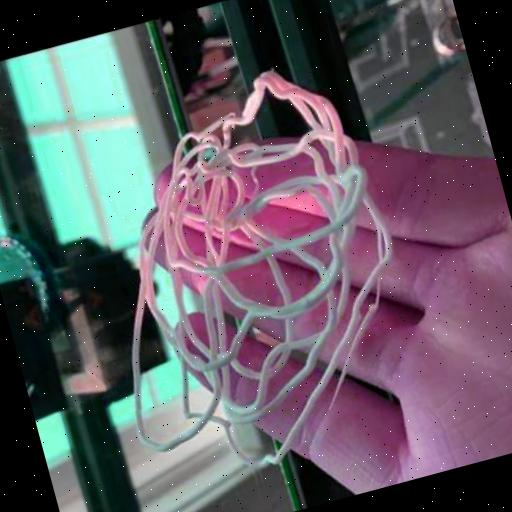spaghetti: (50, 46, 445, 499)
